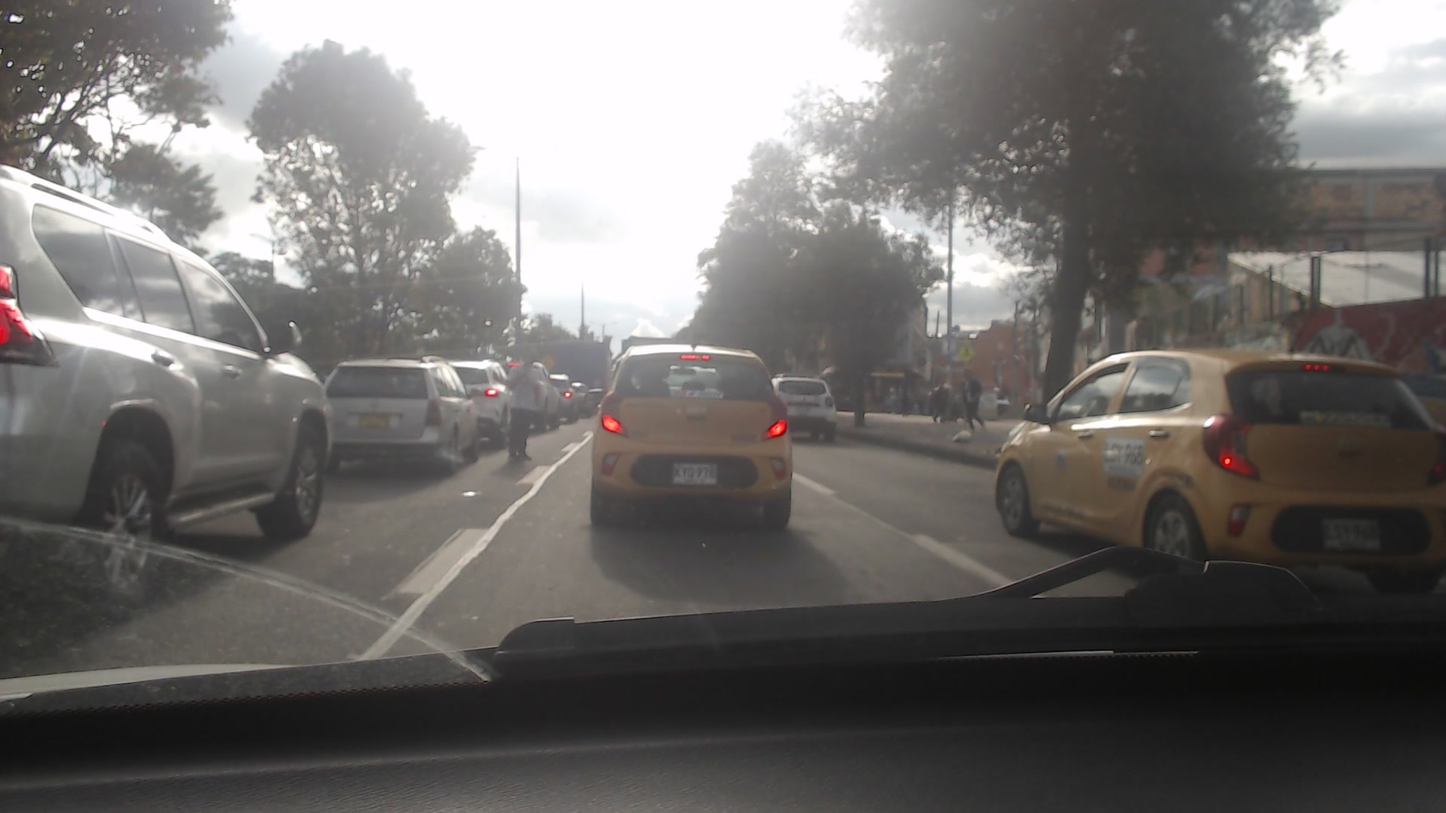car: (0, 168, 340, 606), (982, 348, 1446, 612), (586, 343, 800, 523), (317, 356, 485, 467), (769, 370, 844, 441)
person: (502, 343, 548, 463)
